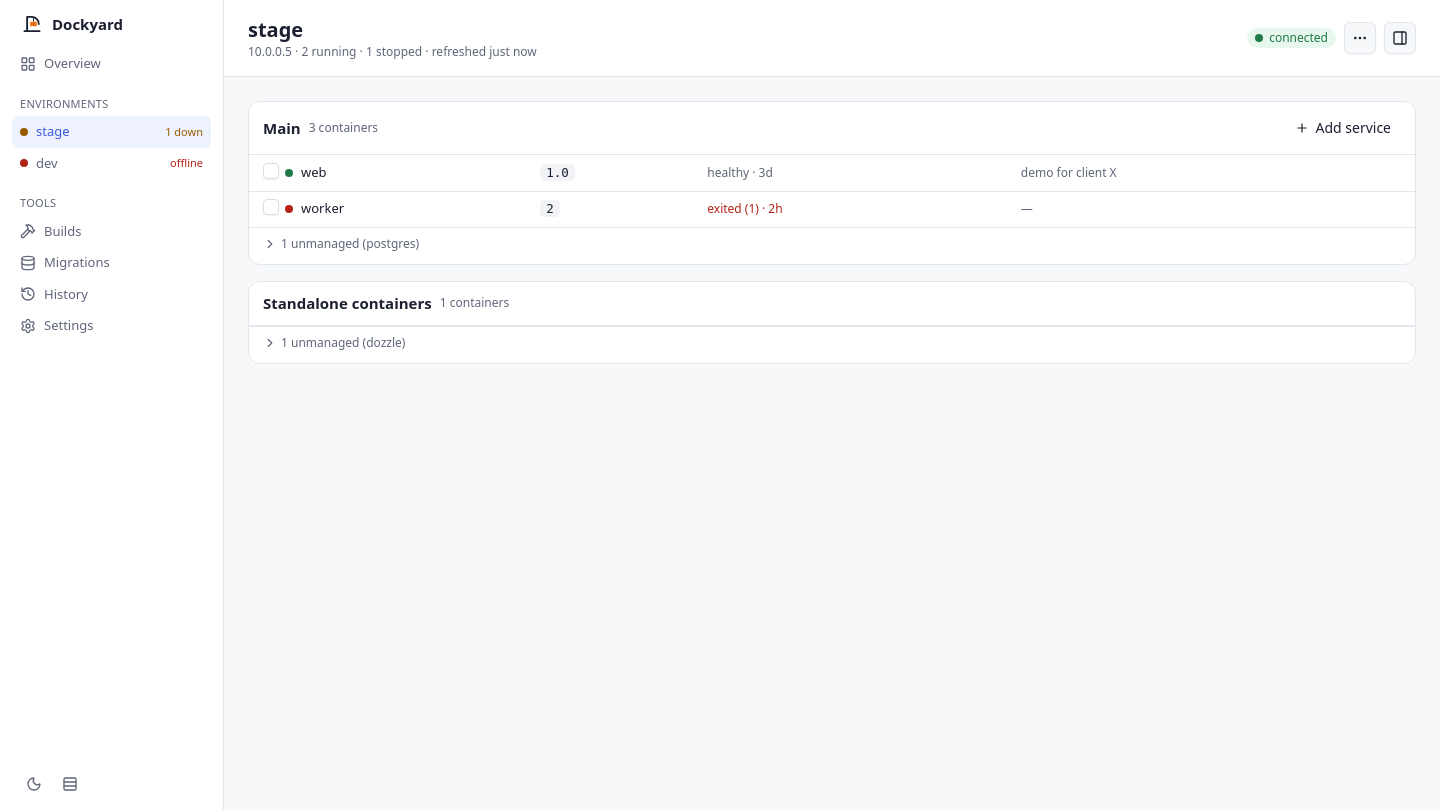
EnvPage › collapses unmanaged containers and lists standalone ones separately
Click the button "1 unmanaged (postgres)": click(341, 244) [263,236,419,252]
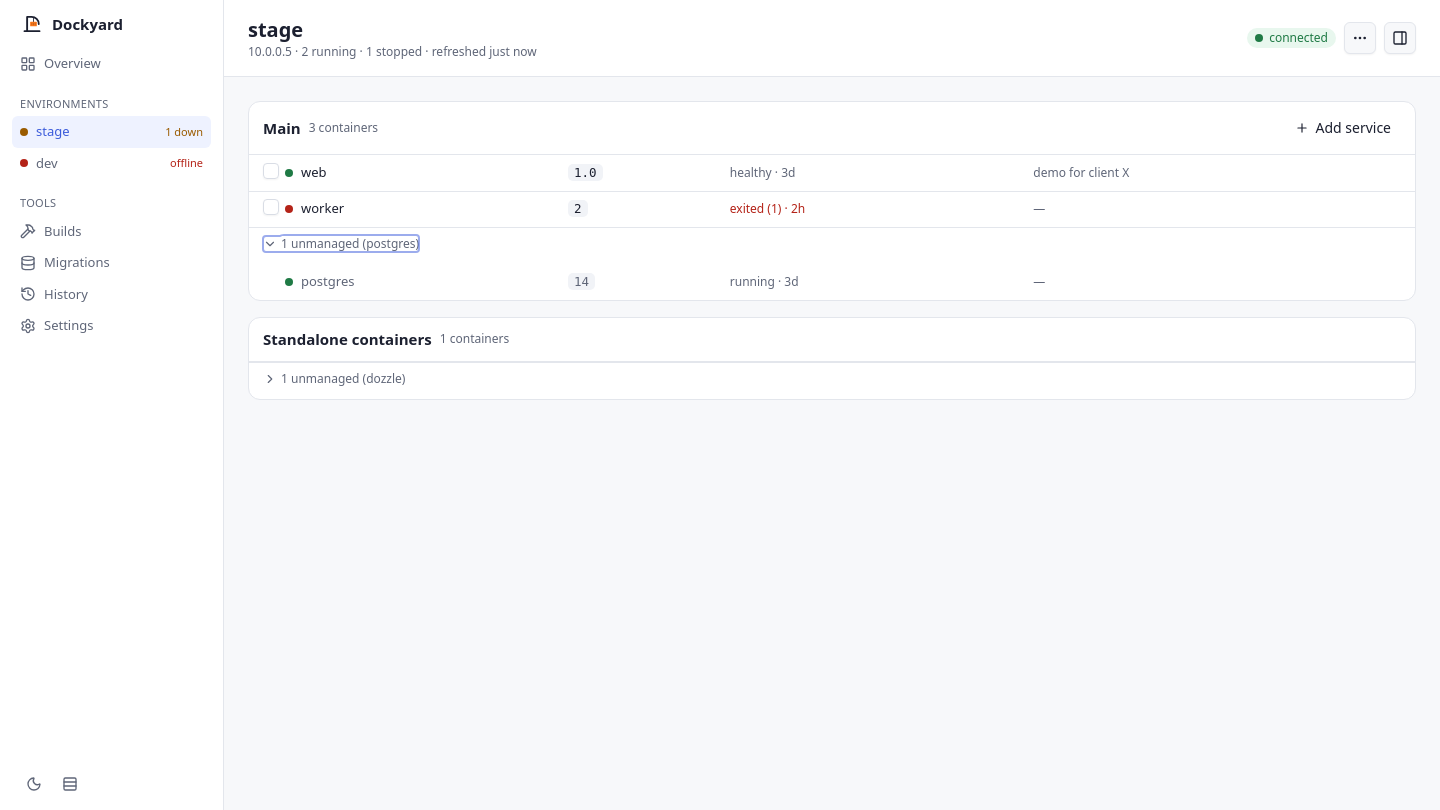
Expected: the heading "Standalone containers" is shown, [263,328,432,350]
Now the button "1 unmanaged (postgres)" is expanded, box [263,236,419,252]
Now the text "postgres" is shown, box [301,272,354,292]
Note: standalone containers are unmanaged, so they sit behind their own collapse row
Click the button "1 unmanaged (dozzle)": click(334, 378) [263,370,406,386]
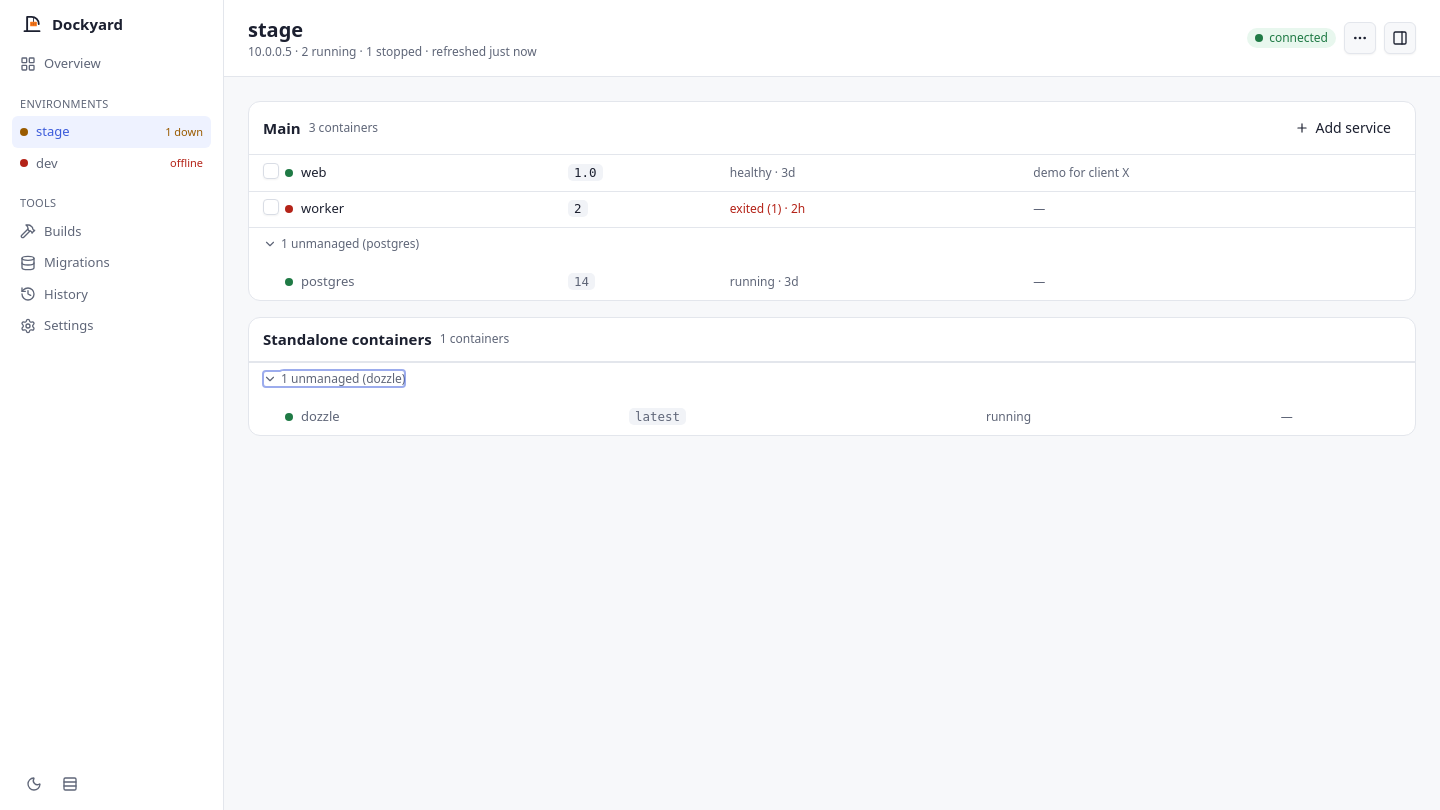
Now the text "dozzle" is shown, box [301,407,340,427]
